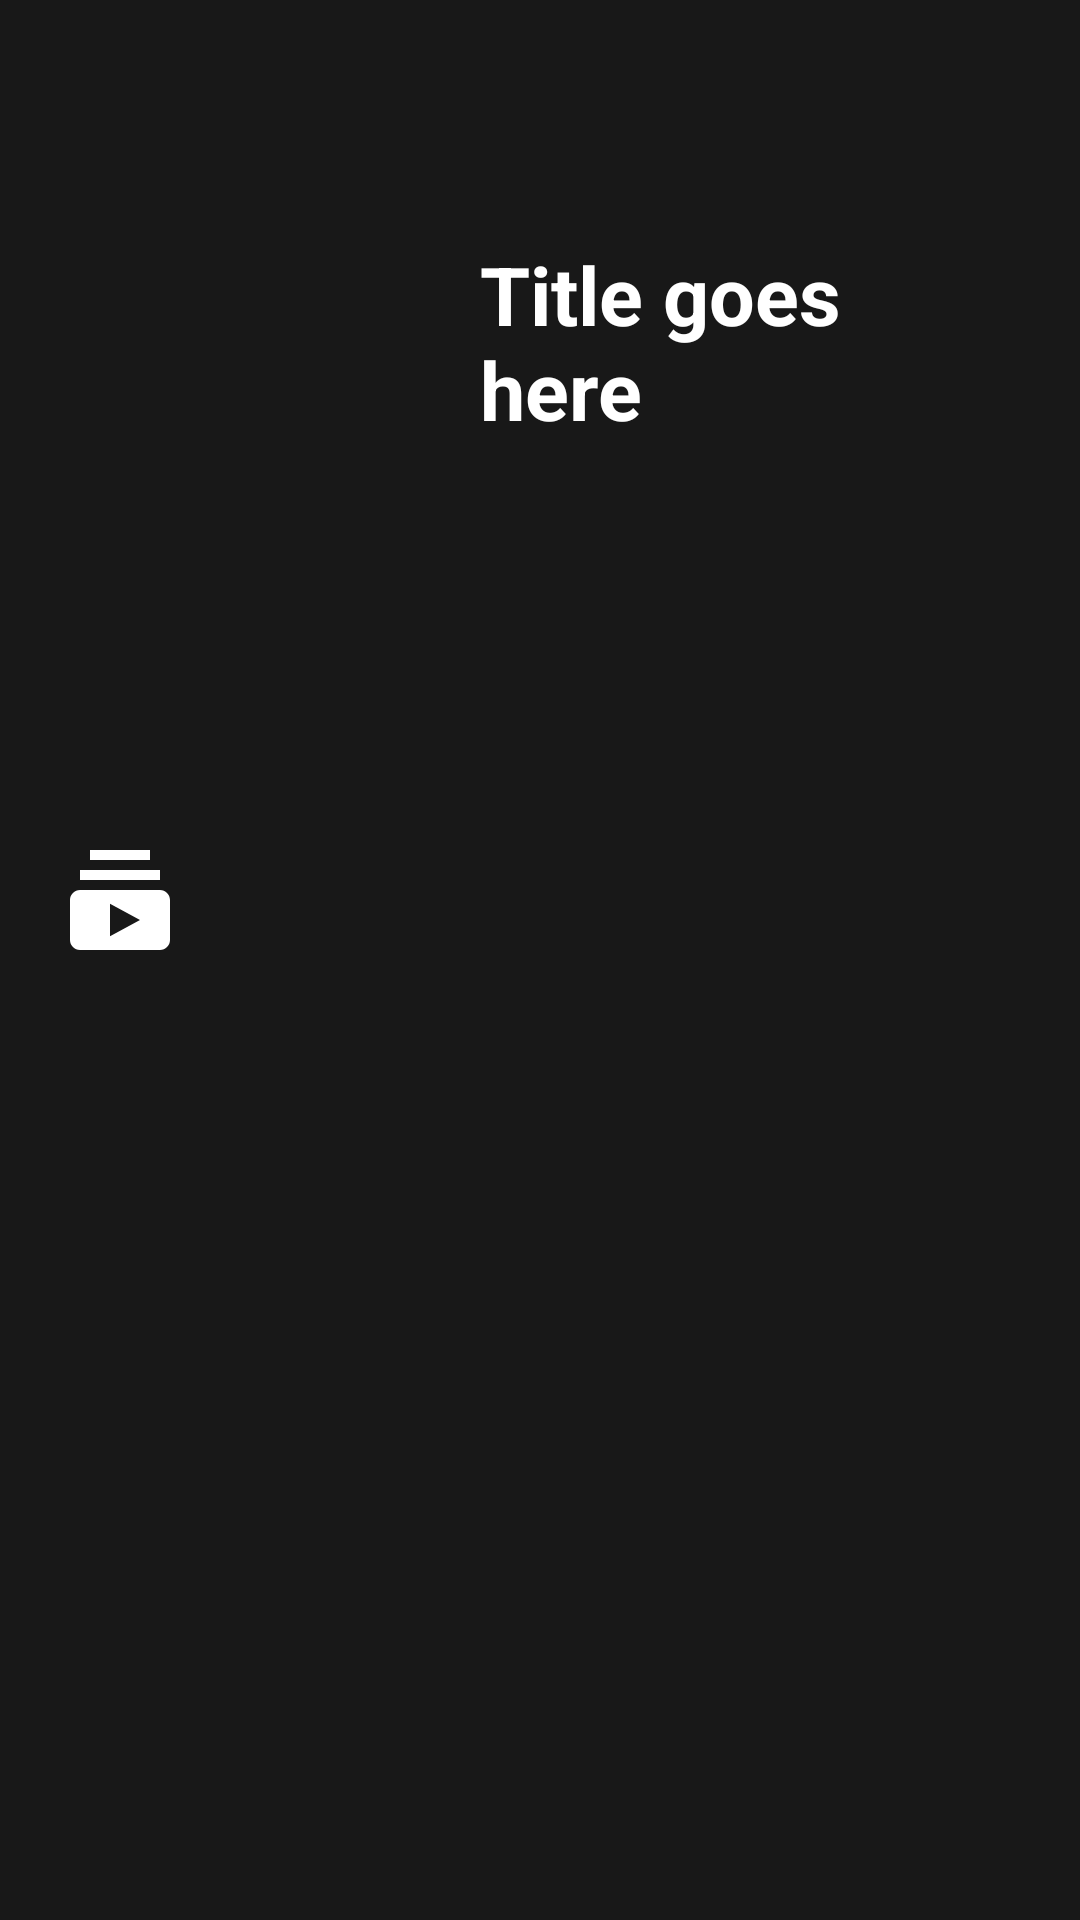

Screen size 1080px×1920px. Icon name, then its center in pixels as point (x, y):
subscriptions: point (120, 900)
